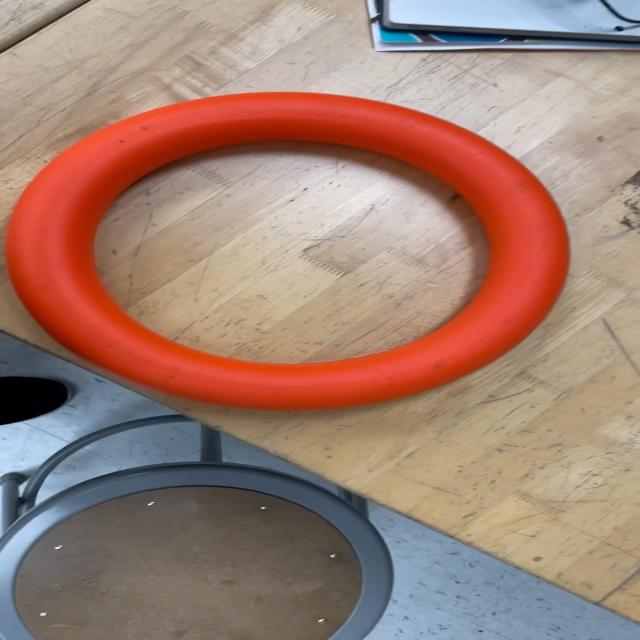note: (3, 90, 574, 414)
